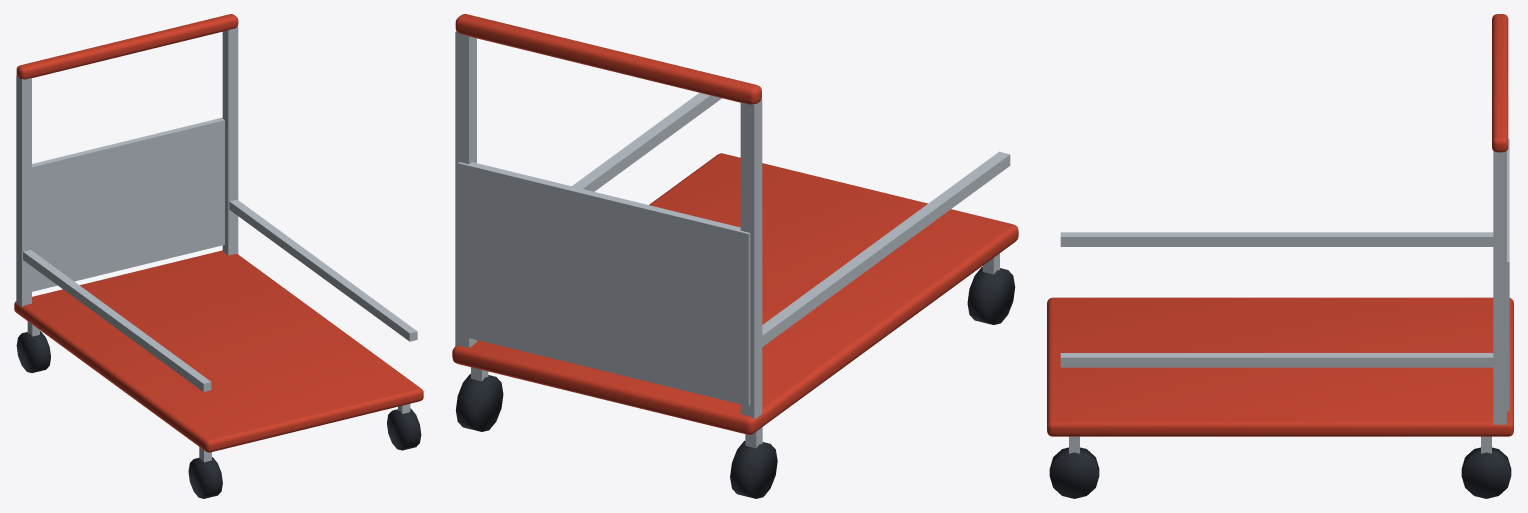
Rendered from luggage_cart.glb.
3 renders of one model, left to right at view 1: azimuth 30°, elevation 25°; view 2: azimuth 150°, elevation 25°; view 3: azimuth 270°, elevation 25°, orthographic. The views are drawn at different scales.
Visible parts, largest first — view 1: deck, back, handle, upright-0.52, upright0.52, side0.52, side-0.52, caster0.50.75, caster-0.5-0.75, caster-0.50.75; view 2: back, deck, handle, side-0.52, upright-0.52, upright0.52, side0.52, caster-0.5-0.75, caster0.5-0.75, caster-0.50.75; view 3: deck, side0.52, side-0.52, upright0.52, handle, caster0.5-0.75, caster0.50.75, back.
Part boxes in pixels (x1,y1,x2,y2): deck: (14, 250, 423, 452); back: (32, 117, 224, 291); handle: (16, 14, 238, 79); upright-0.52: (16, 75, 31, 306); upright0.52: (222, 26, 238, 255); side0.52: (229, 199, 417, 341); side-0.52: (23, 250, 211, 391); caster0.50.75: (387, 408, 421, 450); caster-0.5-0.75: (16, 331, 50, 372); caster-0.50.75: (188, 457, 222, 498); back: (458, 162, 750, 406); deck: (452, 153, 1018, 434); handle: (455, 14, 761, 104); side-0.52: (762, 151, 1010, 346); upright-0.52: (740, 99, 762, 419); upright0.52: (455, 31, 476, 347); side0.52: (572, 92, 721, 191); caster-0.5-0.75: (730, 441, 777, 498); caster0.5-0.75: (455, 374, 503, 431); caster-0.50.75: (967, 267, 1015, 324); deck: (1047, 297, 1513, 436); side0.52: (1060, 353, 1493, 367); side-0.52: (1060, 232, 1493, 246); upright0.52: (1493, 151, 1506, 424); handle: (1492, 14, 1508, 152); caster0.5-0.75: (1461, 447, 1511, 498); caster0.50.75: (1049, 447, 1099, 498); back: (1507, 139, 1509, 411).
Bounding box in the file's own units: 1.1 × 1.45 × 1.7.
